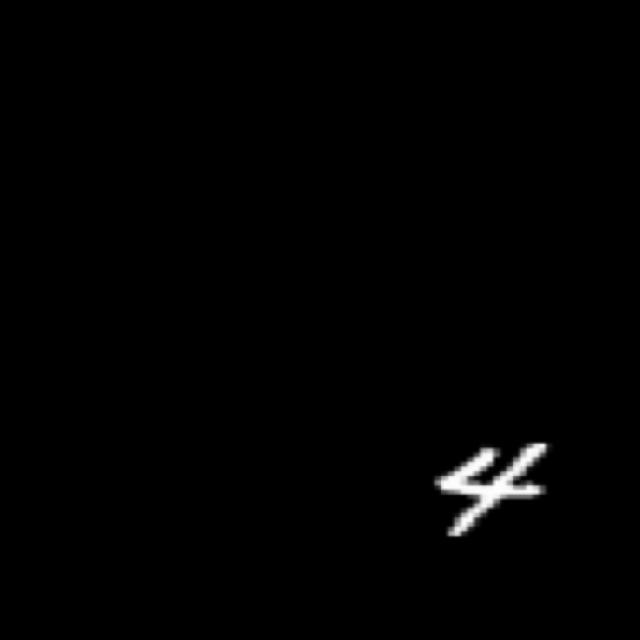four -4-: (418, 429, 558, 546)
